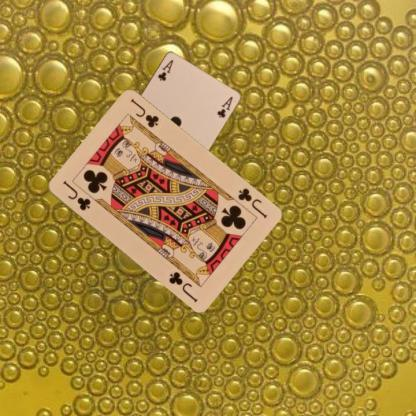Ac: (154, 56, 174, 82)
Jc: (59, 177, 92, 212), (235, 185, 268, 220)
